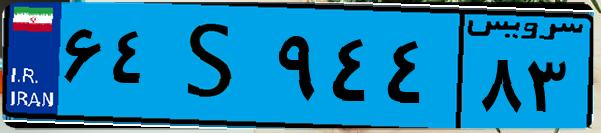3: (525, 38, 570, 115)
4: (385, 28, 445, 110), (330, 28, 385, 110), (110, 28, 158, 98)
6: (57, 26, 110, 100)
8: (475, 38, 525, 113)
9: (270, 28, 330, 110)
S: (158, 12, 270, 120)
